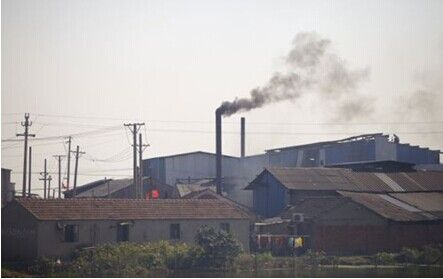dust: (211, 74, 294, 117)
